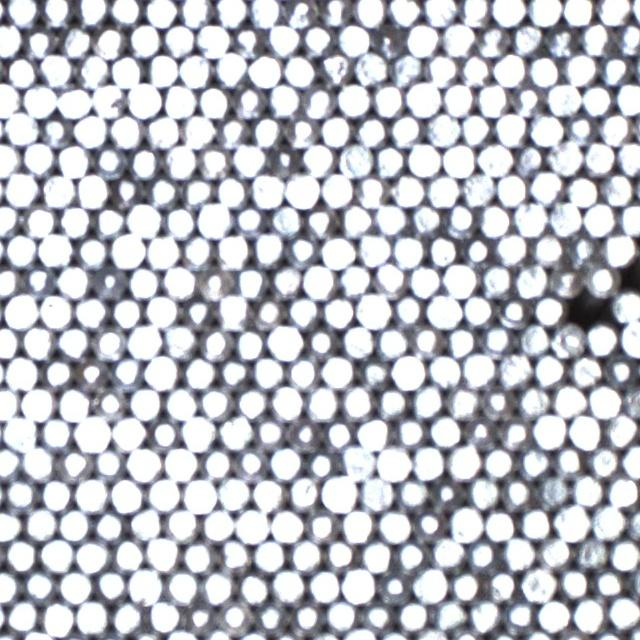tool: (358, 474, 394, 510), (321, 475, 356, 511), (165, 568, 200, 604), (163, 445, 198, 481), (537, 596, 572, 632), (2, 414, 37, 450), (395, 474, 430, 510), (230, 142, 266, 177), (74, 416, 110, 451), (109, 476, 144, 512), (144, 536, 179, 572), (512, 200, 547, 236), (164, 506, 199, 542), (553, 504, 588, 540), (406, 142, 441, 177), (3, 293, 38, 328), (180, 415, 215, 450), (355, 293, 390, 328), (411, 444, 446, 479), (285, 172, 320, 207), (286, 474, 321, 509), (145, 476, 180, 511), (217, 414, 252, 449), (56, 143, 91, 178), (126, 445, 161, 480), (336, 81, 371, 116), (126, 82, 161, 117), (127, 385, 162, 420), (358, 538, 393, 573), (126, 323, 161, 358), (39, 537, 74, 572), (393, 538, 428, 573), (460, 170, 495, 205), (446, 444, 481, 479), (477, 141, 512, 176), (531, 412, 566, 447), (200, 569, 235, 604), (375, 445, 410, 480), (424, 112, 459, 147), (426, 292, 461, 327), (146, 598, 181, 633), (500, 535, 535, 570), (429, 475, 464, 510), (38, 292, 72, 328), (58, 568, 92, 604), (128, 568, 162, 604), (216, 232, 250, 268), (144, 292, 178, 328), (40, 414, 74, 450), (180, 538, 216, 572), (162, 82, 196, 118), (182, 476, 216, 512), (548, 139, 582, 175), (565, 232, 599, 268), (20, 444, 54, 480), (74, 476, 108, 512), (340, 506, 374, 542), (550, 383, 586, 417), (217, 475, 251, 510), (306, 568, 341, 602), (341, 567, 375, 602), (442, 142, 476, 177), (572, 596, 606, 631), (320, 171, 354, 206), (570, 472, 605, 506), (180, 113, 214, 148), (4, 536, 38, 571), (319, 112, 353, 147), (56, 263, 90, 298), (163, 323, 197, 358), (340, 444, 374, 479), (216, 293, 250, 328), (5, 598, 40, 632), (444, 385, 479, 419), (304, 385, 338, 420), (413, 567, 447, 602), (371, 81, 405, 116), (355, 416, 390, 450), (337, 143, 371, 178), (586, 443, 620, 478), (110, 600, 144, 635), (545, 81, 580, 115), (109, 114, 144, 148), (406, 80, 440, 115), (396, 597, 430, 632), (56, 386, 90, 421), (587, 383, 621, 418), (21, 324, 55, 359), (56, 324, 91, 358), (92, 385, 126, 420), (234, 446, 268, 481), (321, 294, 355, 329), (405, 21, 439, 56), (4, 171, 39, 205), (550, 322, 584, 357), (217, 537, 251, 572), (288, 537, 322, 572), (410, 383, 444, 418), (356, 232, 391, 266), (533, 351, 567, 386), (548, 200, 582, 235), (92, 445, 126, 480), (534, 473, 569, 507), (234, 508, 268, 543), (75, 599, 109, 634), (38, 232, 72, 267), (196, 144, 230, 179), (4, 475, 38, 510), (320, 353, 354, 388), (497, 352, 531, 387), (110, 232, 144, 267), (509, 20, 544, 54), (442, 203, 477, 237), (537, 535, 572, 569), (531, 232, 565, 267), (354, 173, 388, 208), (462, 351, 496, 386), (373, 261, 407, 296), (180, 296, 214, 331), (359, 598, 394, 632), (218, 599, 253, 633), (74, 113, 108, 148), (4, 355, 38, 390), (128, 506, 162, 541), (199, 326, 233, 361), (251, 476, 285, 511), (22, 83, 57, 117), (21, 140, 55, 175), (22, 568, 56, 603), (254, 598, 288, 633), (600, 231, 634, 266), (182, 600, 217, 634), (479, 386, 513, 421), (579, 20, 613, 55), (249, 296, 284, 330), (582, 140, 616, 174), (268, 324, 302, 358), (41, 172, 75, 206), (570, 352, 604, 386), (458, 111, 492, 145), (600, 172, 634, 206), (390, 173, 424, 207), (586, 322, 620, 356), (4, 110, 38, 144), (234, 264, 268, 298), (40, 600, 74, 634), (408, 262, 442, 296), (557, 565, 591, 599), (320, 234, 354, 268), (520, 566, 554, 600), (163, 264, 197, 298), (340, 324, 374, 358), (111, 416, 145, 450), (532, 293, 566, 327), (566, 173, 600, 207), (338, 262, 372, 296), (286, 294, 320, 328), (92, 326, 126, 360), (460, 292, 494, 326), (515, 322, 549, 356), (90, 82, 124, 116), (393, 414, 427, 448), (432, 598, 466, 632), (514, 262, 548, 296), (127, 145, 161, 179), (529, 112, 563, 146), (318, 51, 352, 85), (39, 114, 73, 148), (57, 447, 91, 481), (270, 568, 304, 602), (269, 384, 303, 418), (389, 112, 423, 146), (75, 538, 109, 572), (164, 386, 198, 420), (144, 234, 178, 268), (267, 82, 301, 116), (391, 354, 425, 388), (354, 114, 388, 148), (568, 414, 602, 448), (592, 565, 626, 599), (127, 22, 161, 56), (92, 508, 126, 542), (269, 508, 303, 542), (582, 201, 616, 235), (93, 144, 127, 178), (75, 173, 109, 207), (574, 535, 608, 569), (39, 51, 73, 85), (324, 597, 358, 631), (146, 114, 180, 148), (494, 231, 528, 265), (425, 173, 459, 207), (144, 354, 178, 388), (92, 265, 126, 299), (304, 509, 338, 543), (301, 142, 335, 176), (548, 265, 582, 299), (408, 323, 442, 357), (408, 201, 442, 235), (606, 473, 640, 507), (374, 385, 408, 419), (508, 84, 542, 118), (75, 234, 109, 268), (213, 51, 247, 85), (302, 264, 336, 298), (178, 53, 212, 87), (339, 202, 373, 236), (516, 383, 550, 417), (250, 173, 284, 207), (590, 504, 624, 538), (564, 111, 598, 145), (584, 264, 618, 298), (492, 52, 526, 86), (448, 506, 482, 540), (5, 53, 39, 87), (20, 386, 54, 420), (40, 355, 74, 389), (377, 508, 411, 542), (354, 50, 388, 84), (74, 295, 108, 329), (198, 385, 232, 419), (198, 266, 232, 300), (247, 53, 281, 87), (427, 352, 461, 386), (58, 202, 92, 236), (282, 53, 316, 87), (200, 506, 234, 540), (304, 324, 338, 358), (303, 204, 337, 238), (75, 357, 109, 391), (529, 169, 563, 203), (109, 356, 143, 390), (250, 354, 284, 388), (22, 506, 56, 540), (110, 54, 144, 88), (478, 322, 512, 356), (301, 22, 335, 56), (301, 84, 335, 118), (376, 572, 410, 606), (604, 353, 638, 387), (21, 262, 55, 296), (502, 598, 536, 632), (571, 288, 605, 322), (269, 444, 302, 479), (392, 293, 425, 328), (163, 143, 196, 178), (448, 568, 481, 603), (111, 537, 144, 572), (374, 324, 407, 359), (94, 567, 127, 602), (147, 416, 180, 451), (200, 446, 233, 481), (605, 412, 638, 447), (551, 444, 584, 479), (443, 262, 476, 296), (267, 22, 300, 56), (196, 22, 229, 56), (40, 476, 73, 510), (110, 294, 143, 328), (442, 21, 475, 55), (494, 112, 527, 146), (237, 570, 270, 604), (467, 474, 500, 508), (163, 22, 196, 56), (598, 110, 631, 144), (483, 568, 517, 601), (57, 84, 90, 118), (215, 174, 248, 208), (468, 597, 501, 631), (284, 115, 318, 148), (180, 234, 213, 268), (232, 85, 266, 118), (517, 446, 550, 480), (127, 265, 161, 298), (372, 143, 405, 177), (4, 232, 37, 266), (216, 116, 249, 150), (338, 22, 372, 55), (444, 323, 478, 356), (92, 25, 126, 58), (498, 416, 531, 450), (340, 385, 373, 419), (499, 476, 532, 510), (269, 264, 302, 298), (430, 535, 464, 568), (290, 599, 323, 633), (233, 325, 266, 359), (322, 537, 356, 570), (428, 414, 461, 448), (269, 202, 303, 235), (58, 24, 92, 57), (496, 296, 530, 329), (512, 142, 545, 176), (424, 51, 458, 84), (475, 82, 509, 115), (253, 538, 286, 572), (518, 506, 552, 539), (127, 202, 160, 236), (466, 536, 499, 570), (216, 356, 250, 389), (197, 84, 230, 118), (458, 53, 492, 86), (197, 202, 230, 236), (545, 24, 578, 58), (145, 52, 178, 86), (268, 143, 302, 176), (580, 82, 613, 116), (163, 204, 196, 238), (477, 202, 510, 236), (563, 51, 597, 84), (232, 202, 266, 235), (483, 507, 516, 541), (182, 356, 215, 390), (75, 52, 108, 86), (22, 203, 56, 236), (57, 507, 91, 540), (286, 355, 320, 388), (357, 356, 391, 389), (304, 447, 338, 480), (250, 114, 283, 148), (230, 22, 263, 56), (411, 509, 445, 542), (482, 446, 515, 479), (373, 201, 406, 234), (180, 174, 213, 207), (145, 175, 178, 208), (390, 52, 423, 85), (287, 418, 320, 451), (92, 205, 125, 238), (479, 263, 512, 296), (465, 415, 498, 448), (599, 52, 632, 85), (111, 175, 144, 208), (527, 53, 560, 86), (461, 233, 494, 266), (496, 171, 528, 205), (608, 594, 640, 628), (608, 536, 640, 570), (392, 233, 424, 267), (476, 23, 508, 57), (372, 26, 406, 58), (23, 26, 57, 58), (442, 82, 474, 115), (236, 385, 268, 418), (252, 231, 284, 264), (286, 234, 319, 266), (426, 234, 459, 266), (322, 418, 354, 450), (252, 416, 284, 448), (610, 289, 640, 323), (387, 0, 421, 28), (282, 0, 316, 28), (248, 0, 281, 28), (178, 0, 212, 27), (613, 20, 640, 54), (144, 0, 177, 27), (561, 0, 595, 26), (214, 0, 248, 26), (4, 0, 38, 26), (319, 0, 353, 26), (526, 0, 560, 26), (422, 0, 457, 25), (458, 0, 490, 27), (40, 0, 73, 26), (109, 0, 142, 26), (353, 0, 386, 26), (491, 0, 525, 25), (615, 80, 640, 114), (75, 0, 108, 25), (616, 140, 640, 174), (597, 0, 631, 24), (0, 22, 22, 56), (618, 201, 640, 235), (0, 445, 21, 480), (0, 264, 21, 298), (0, 508, 21, 542), (0, 568, 20, 603), (0, 385, 20, 420), (0, 81, 20, 116), (0, 202, 21, 235), (621, 320, 640, 356), (0, 324, 20, 358), (0, 141, 19, 176), (622, 443, 640, 478), (622, 383, 640, 418), (624, 505, 640, 538)
